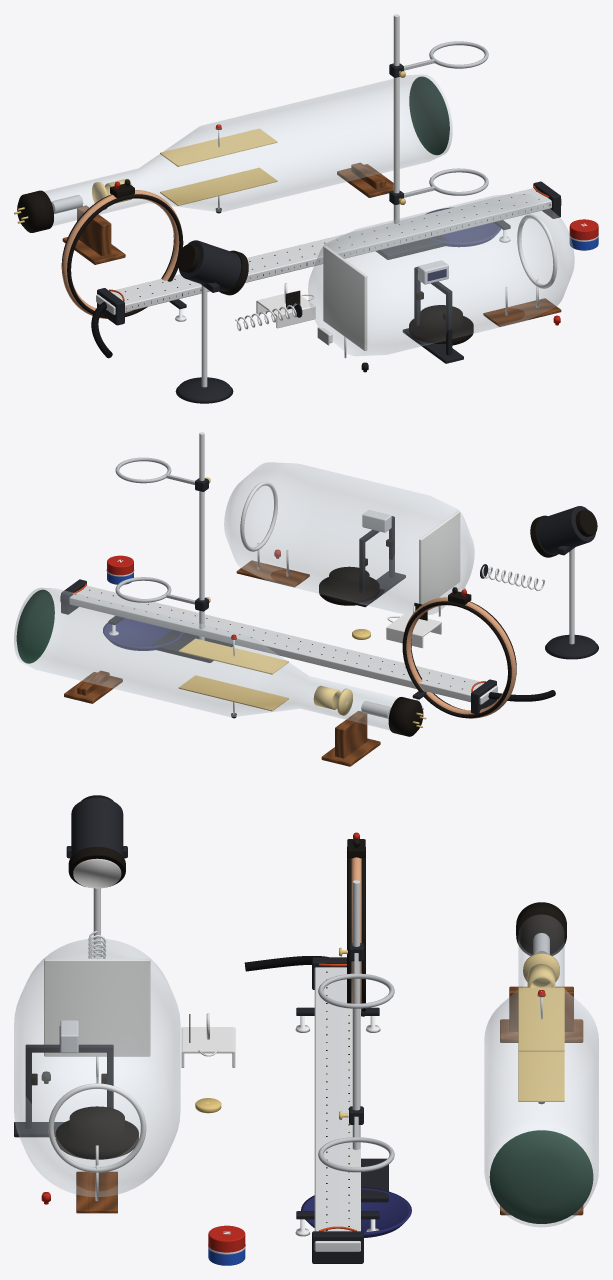
File: phys-parts.glb
3 renders of one model, top to bottom at view 1: azimuth 30°, elevation 25°; view 2: azimuth 150°, elevation 25°; view 3: azimuth 270°, elevation 25°, orthographic. The views are drawn at different scales.
Visible parts, largest first — view 1: PhotoCell, CrtTube, AirTrack, EddyStand, LampHouse, Helmholtz, PhotoGate, Glider, WeightStand, Magnet, Spring; view 2: CrtTube, PhotoCell, AirTrack, EddyStand, LampHouse, Helmholtz, PhotoGate, Glider, WeightStand, Magnet, Spring; view 3: PhotoCell, CrtTube, AirTrack, EddyStand, LampHouse, PhotoGate, Helmholtz, WeightStand, Glider, Magnet.
Part boxes in pixels (bbox=[...]): PhotoCell: bbox=[308, 194, 574, 372]; CrtTube: bbox=[14, 74, 452, 264]; AirTrack: bbox=[91, 181, 561, 358]; EddyStand: bbox=[376, 14, 500, 259]; LampHouse: bbox=[175, 240, 248, 403]; Helmholtz: bbox=[61, 179, 183, 318]; PhotoGate: bbox=[402, 260, 463, 363]; Glider: bbox=[256, 283, 315, 328]; WeightStand: bbox=[483, 279, 561, 326]; Magnet: bbox=[569, 219, 598, 250]; Spring: bbox=[235, 302, 302, 330]; CrtTube: bbox=[14, 588, 426, 766]; PhotoCell: bbox=[224, 462, 474, 616]; AirTrack: bbox=[60, 579, 555, 713]; EddyStand: bbox=[103, 432, 232, 662]; LampHouse: bbox=[530, 506, 598, 659]; Helmholtz: bbox=[402, 587, 516, 718]; PhotoGate: bbox=[357, 510, 405, 607]; Glider: bbox=[386, 603, 441, 648]; WeightStand: bbox=[236, 543, 309, 587]; Magnet: bbox=[106, 555, 134, 584]; Spring: bbox=[480, 564, 544, 590]; PhotoCell: bbox=[14, 938, 180, 1204]; CrtTube: bbox=[484, 902, 598, 1226]; AirTrack: bbox=[244, 956, 380, 1263]; EddyStand: bbox=[301, 880, 411, 1237]; LampHouse: bbox=[66, 795, 127, 957]; PhotoGate: bbox=[14, 1020, 113, 1137]; Helmholtz: bbox=[347, 832, 365, 1016]; WeightStand: bbox=[76, 1145, 117, 1213]; Glider: bbox=[181, 1013, 235, 1067]; Magnet: bbox=[208, 1225, 245, 1265].
Bounding box in the file's own units: 7.77 × 3.6 × 6.32.
Materials: 22 (1 with a texture image).
